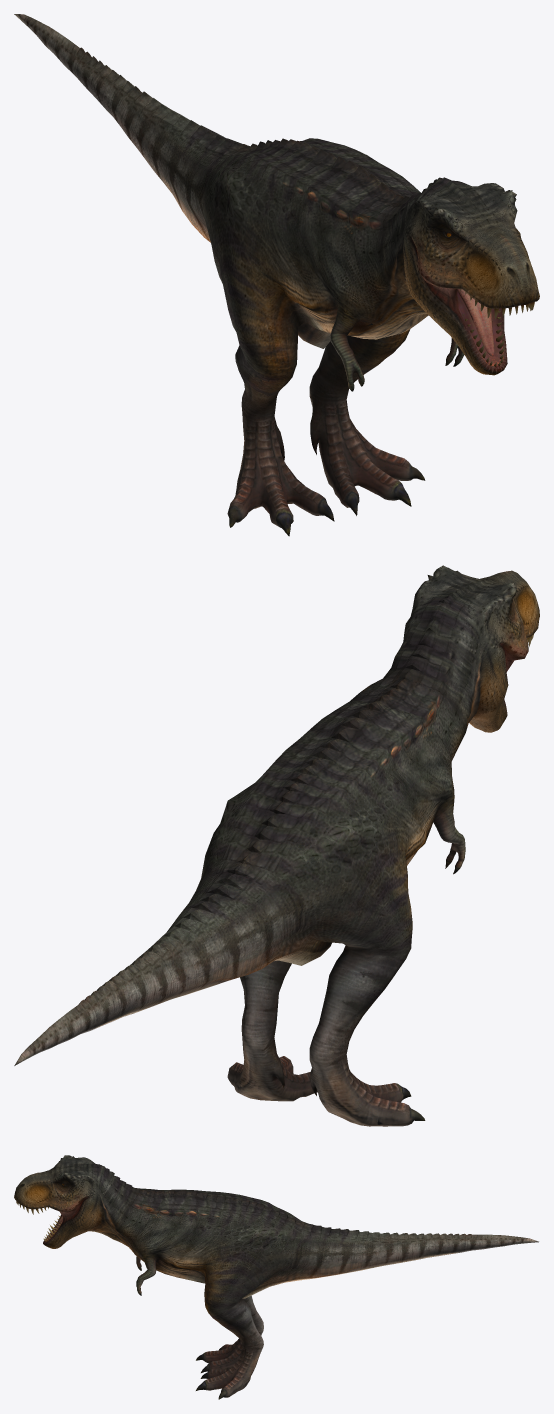
File: trex.gltf
3 renders of one model, top to bottom at view 1: azimuth 30°, elevation 25°; view 2: azimuth 150°, elevation 25°; view 3: azimuth 270°, elevation 25°, orthographic. The views are drawn at different scales.
Visible parts, largest first — view 1: polySurface55, polySurface58; view 2: polySurface55, polySurface58; view 3: polySurface55, polySurface58.
Part boxes in pixels (x1=…): polySurface55: x1=14, y1=14, x2=464, y2=536; polySurface58: x1=380, y1=177, x2=539, y2=375; polySurface55: x1=14, y1=677, x2=465, y2=1126; polySurface58: x1=383, y1=565, x2=539, y2=732; polySurface55: x1=113, y1=1188, x2=538, y2=1399; polySurface58: x1=14, y1=1155, x2=139, y2=1248.
Size of the model in its own units: 14.57 by 29.63 by 66.49.
Materials: 2 (2 with a texture image).
